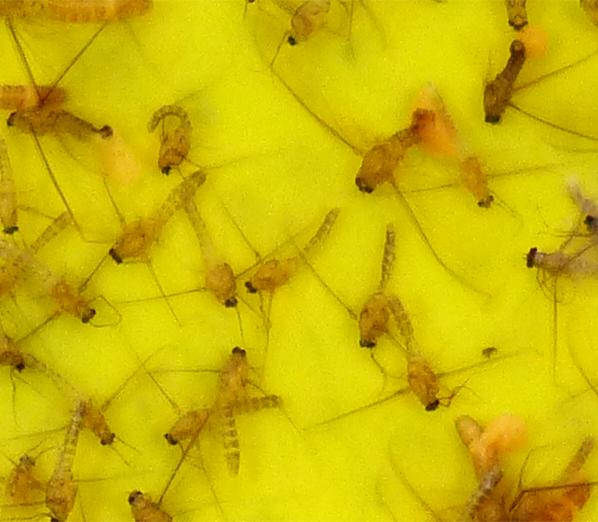Ephemeroptera: (100, 166, 209, 266), (375, 286, 452, 422), (17, 351, 120, 450), (241, 202, 341, 299), (351, 101, 445, 198), (1, 241, 101, 325), (180, 186, 244, 312), (164, 391, 286, 448), (42, 396, 91, 522), (357, 218, 398, 352), (212, 339, 250, 479), (3, 106, 117, 145), (479, 37, 527, 128), (142, 100, 195, 178), (1, 448, 42, 522), (519, 245, 598, 283), (456, 141, 498, 210), (281, 1, 334, 52), (1, 131, 25, 242), (122, 484, 176, 522)
